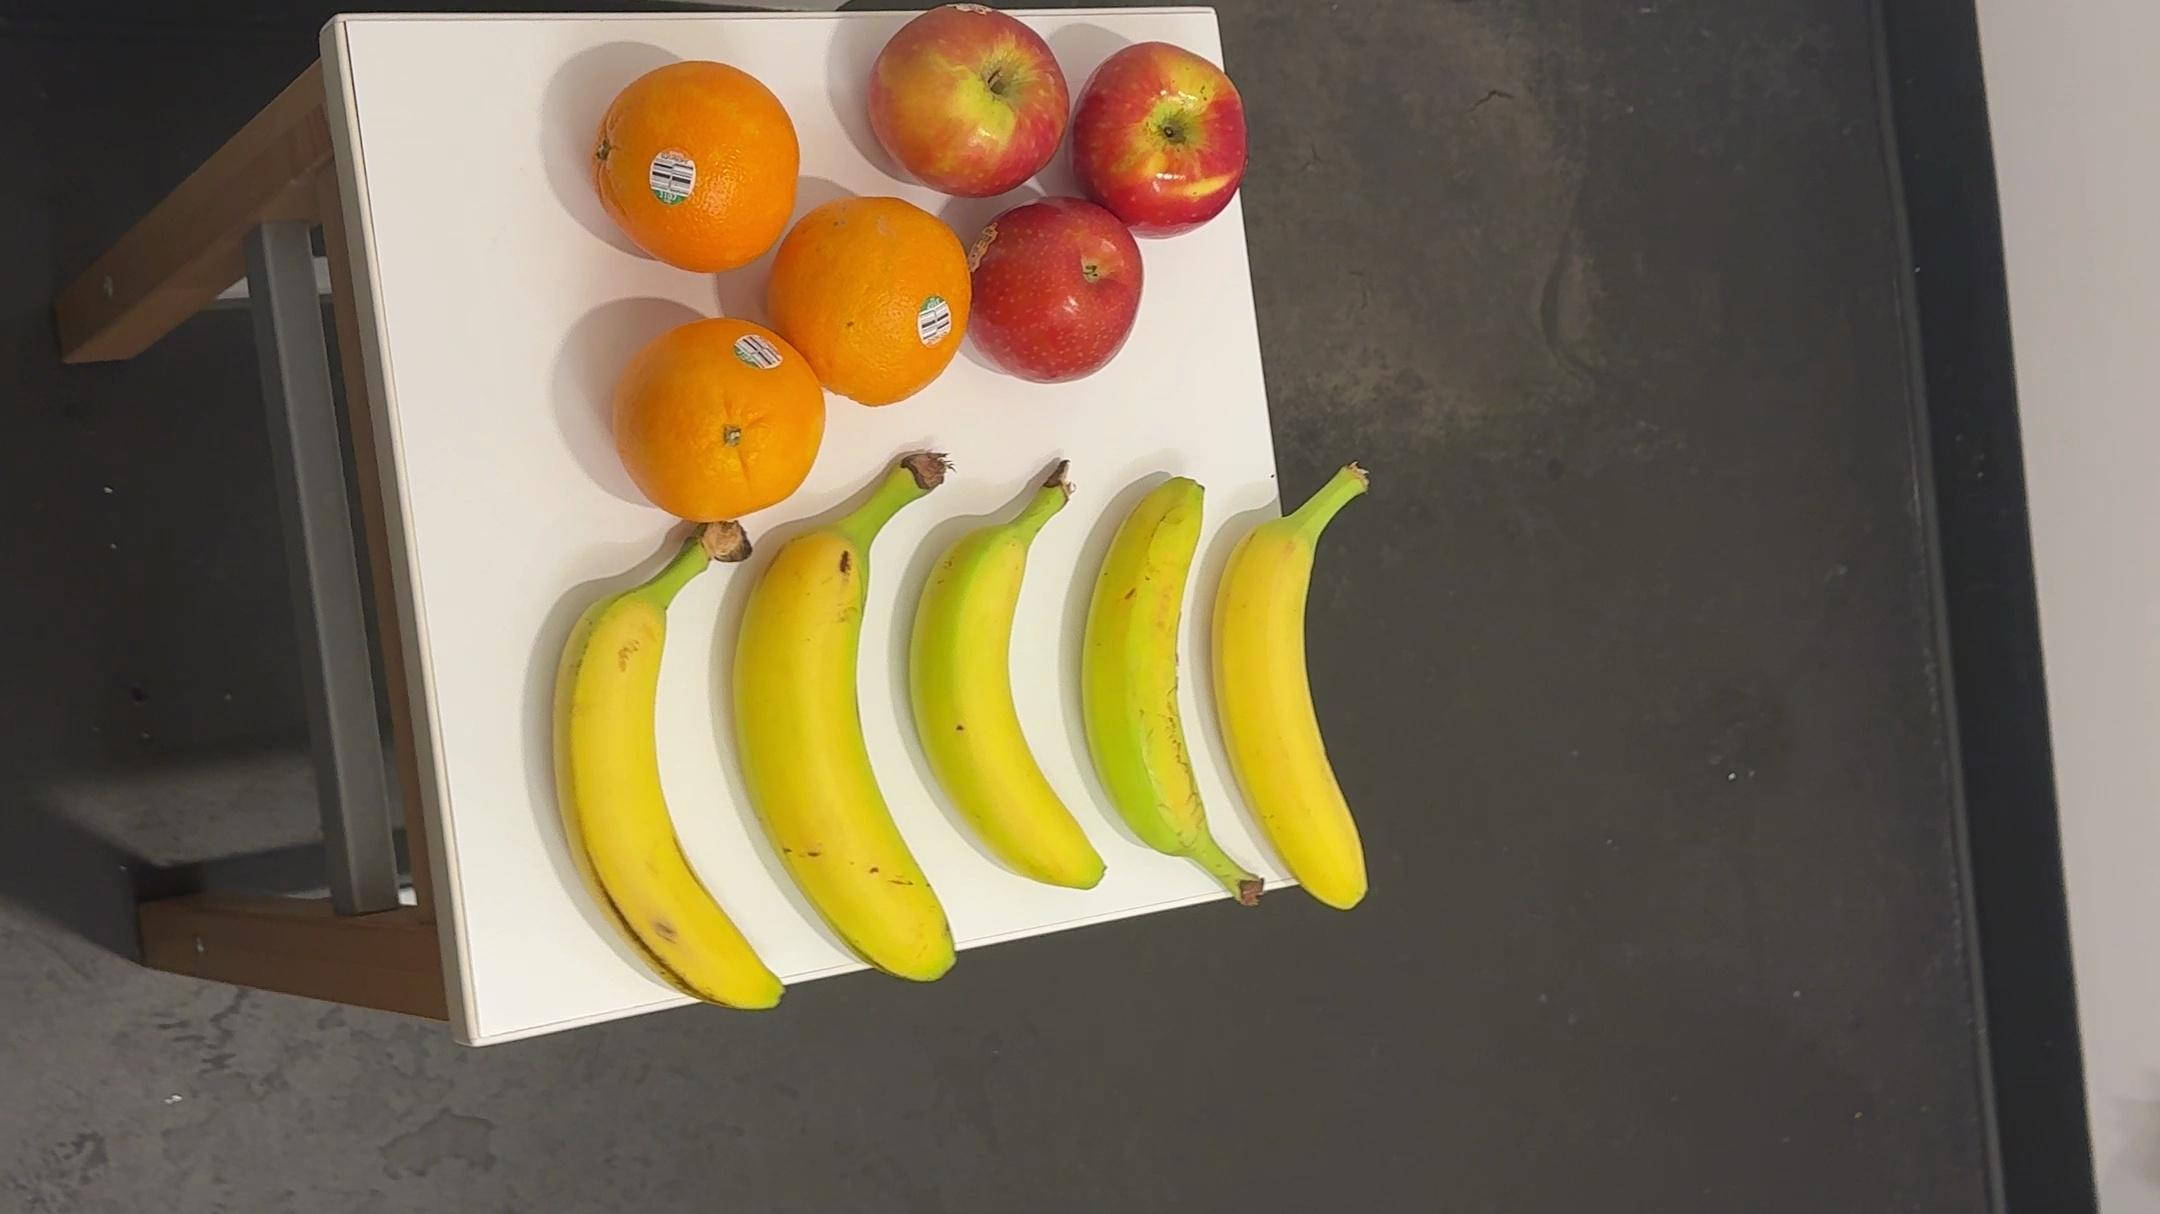apple: (1065, 39, 1261, 242), (871, 3, 1061, 203), (984, 188, 1153, 387)
banana: (536, 511, 795, 1030), (739, 442, 969, 991), (912, 441, 1113, 905), (1209, 433, 1397, 922), (1089, 456, 1271, 925)
orange: (589, 43, 807, 278), (780, 183, 978, 410), (622, 306, 817, 530)
